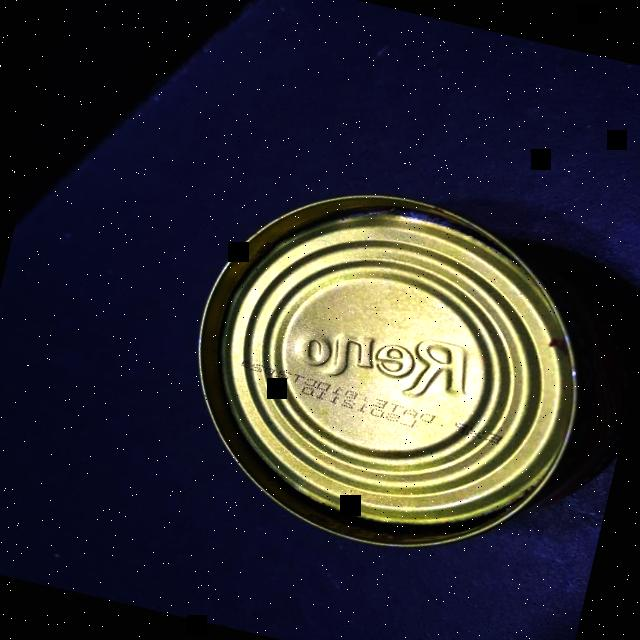can: (151, 151, 640, 599)
